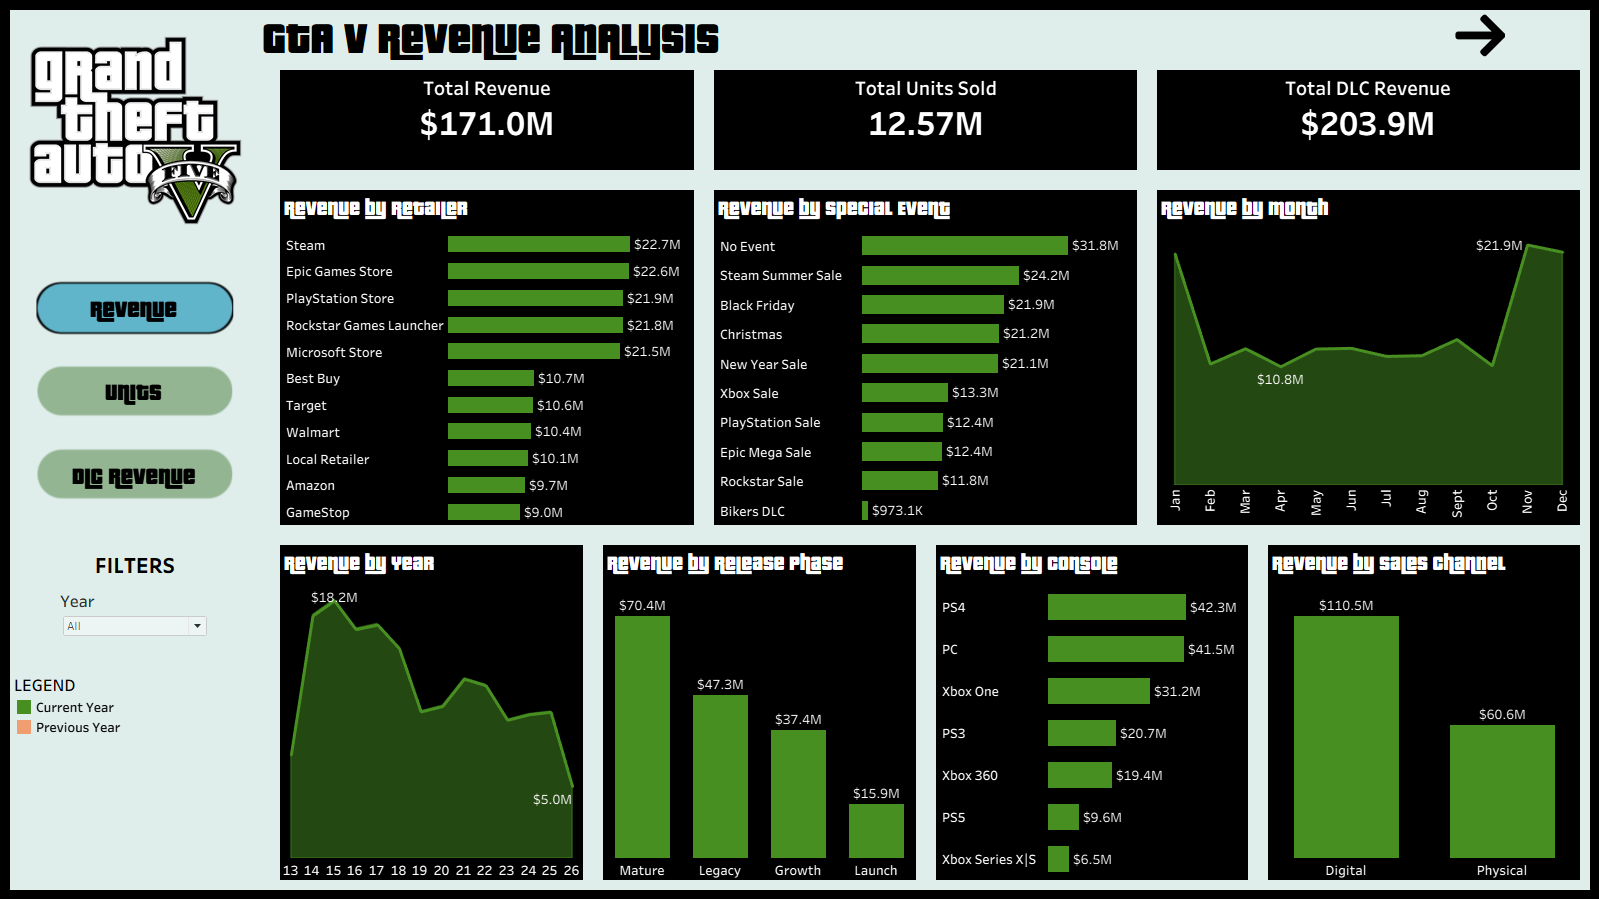

What the dashboard file says about the page in this screenshot:
{"tool":"tableau","page":{"name":"1","canvas":[1600,900],"ordinal":0},"visuals":[{"type":"blank","box":[10,10,250,20]},{"type":"text","box":[260,10,1130,50]},{"type":"dashboard-object","box":[1390,10,180,50]},{"type":"image","param":"Image/gta-v-logo-huge-transback1.png","box":[10,30,250,200]},{"type":"worksheet","title":"Revenue","mark":"Automatic","box":[280,70,414,100]},{"type":"worksheet","title":"Units Sold","mark":"Automatic","box":[714,70,423,100]},{"type":"worksheet","title":"DLC Revenue","mark":"Automatic","box":[1157,70,423,100]},{"type":"worksheet","title":"Retailer","mark":"Automatic","rows":["retailer"],"cols":["Calculation_1156724211879937","Metric YoY (copy)_1199605215707158"],"box":[280,190,414,335]},{"type":"worksheet","title":"Special Event","mark":"Bar","rows":["special_event"],"cols":["Calculation_1156724211879937","Metric YoY (copy)_1199605215707158"],"box":[714,190,423,335]},{"type":"worksheet","title":"Month","mark":"Automatic","rows":["Calculation_1156724211879937","Calculation_1156724211879937"],"cols":["Date"],"box":[1157,190,423,335]},{"type":"blank","box":[10,230,250,50]},{"type":"worksheet","title":"Buttons","mark":"Shape","rows":["Calculation_0579481005690900","Calculation_0579481005690900","Calculation_0579481005690900"],"box":[10,280,250,250]},{"type":"blank","box":[10,530,250,20]},{"type":"worksheet","title":"Year","mark":"Automatic","rows":["Calculation_1199605217181720","Calculation_1199605217181720"],"cols":["Date"],"box":[280,545,303,335]},{"type":"worksheet","title":"Release Phase","mark":"Automatic","rows":["Calculation_1199605217181720"],"cols":["release_phase"],"box":[603,545,313,335]},{"type":"worksheet","title":"Console","mark":"Automatic","rows":["platform"],"cols":["Calculation_1156724211879937","Metric YoY (copy)_1199605215707158"],"box":[936,545,312,335]},{"type":"worksheet","title":"Sales Channel","mark":"Automatic","rows":["Calculation_1156724211879937","Metric YoY (copy)_1199605215707158"],"cols":["sales_channel"],"box":[1268,545,312,335]},{"type":"text","box":[10,550,250,30]},{"type":"blank","box":[10,580,250,10]},{"type":"parameter","param":"[Parameters].[Parameter 1199605212127239]","box":[60,590,150,50]},{"type":"blank","box":[10,640,250,30]},{"type":"legend","title":"Console","param":"[federated.11s83u20dlavxa1726apb0tvfoed].[:Measure Names]","box":[10,670,250,71]}]}

Visuals, with their boxes in screenshot pixels (x1, y1, x2, y2), scaled from the page's 1600x900 canvas onto the 1599x899 screenshot:
blank: bbox=[10, 10, 260, 30]
text: bbox=[260, 10, 1389, 60]
dashboard-object: bbox=[1389, 10, 1569, 60]
image: bbox=[10, 30, 260, 230]
"Revenue" worksheet: bbox=[280, 70, 694, 170]
"Units Sold" worksheet: bbox=[714, 70, 1136, 170]
"DLC Revenue" worksheet: bbox=[1156, 70, 1579, 170]
"Retailer" worksheet: bbox=[280, 190, 694, 524]
"Special Event" worksheet (Bar marks): bbox=[714, 190, 1136, 524]
"Month" worksheet: bbox=[1156, 190, 1579, 524]
blank: bbox=[10, 230, 260, 280]
"Buttons" worksheet (Shape marks): bbox=[10, 280, 260, 529]
blank: bbox=[10, 529, 260, 549]
"Year" worksheet: bbox=[280, 544, 583, 879]
"Release Phase" worksheet: bbox=[603, 544, 915, 879]
"Console" worksheet: bbox=[935, 544, 1247, 879]
"Sales Channel" worksheet: bbox=[1267, 544, 1579, 879]
text: bbox=[10, 549, 260, 579]
blank: bbox=[10, 579, 260, 589]
parameter: bbox=[60, 589, 210, 639]
blank: bbox=[10, 639, 260, 669]
"Console" legend: bbox=[10, 669, 260, 740]
